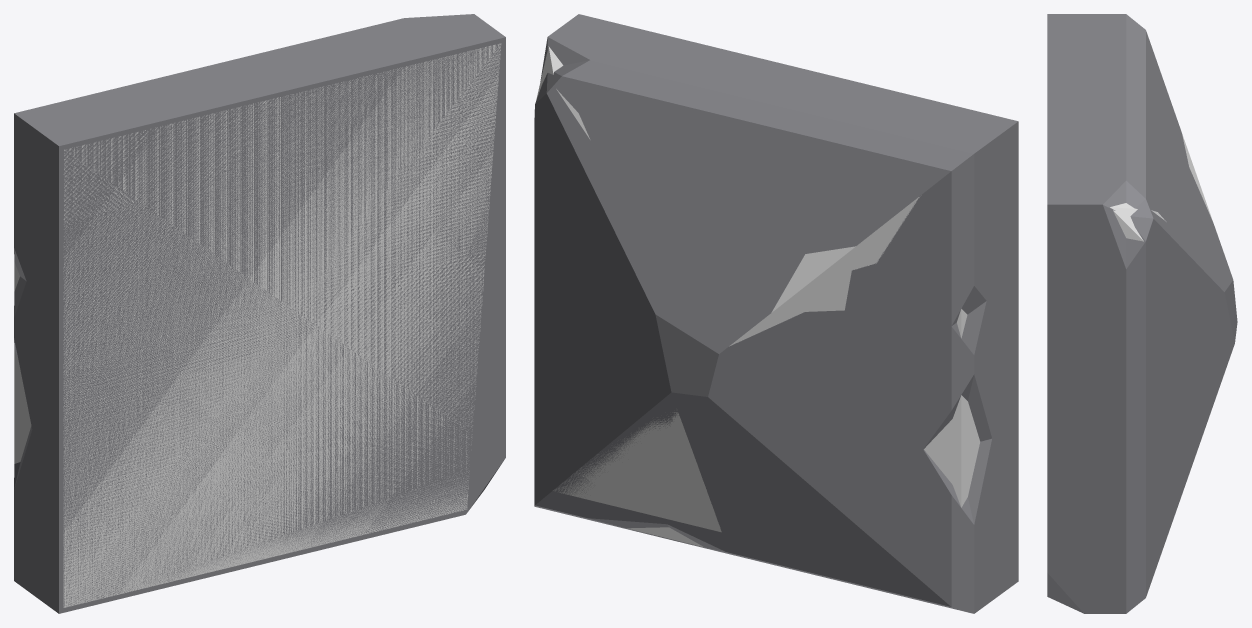
Rendered from SM_Prop_Wall_Panel_Small_02.fbx.
3 renders of one model, left to right at view 1: azimuth 30°, elevation 25°; view 2: azimuth 150°, elevation 25°; view 3: azimuth 270°, elevation 25°, orthographic. The views are drawn at different scales.
Visible parts, largest first — view 1: SM_Prop_Wall_Panel_Small_02_LOD0, SM_Prop_Wall_Panel_Small_02_ConvexHulls; view 2: SM_Prop_Wall_Panel_Small_02_LOD0, SM_Prop_Wall_Panel_Small_02_ConvexHulls; view 3: SM_Prop_Wall_Panel_Small_02_LOD0, SM_Prop_Wall_Panel_Small_02_ConvexHulls.
Boxes of the visible parts, x1,y1,x2,y2 form: SM_Prop_Wall_Panel_Small_02_LOD0: [14, 14, 505, 613]; SM_Prop_Wall_Panel_Small_02_ConvexHulls: [14, 43, 501, 607]; SM_Prop_Wall_Panel_Small_02_LOD0: [534, 14, 1018, 613]; SM_Prop_Wall_Panel_Small_02_ConvexHulls: [536, 46, 980, 546]; SM_Prop_Wall_Panel_Small_02_LOD0: [1047, 14, 1237, 613]; SM_Prop_Wall_Panel_Small_02_ConvexHulls: [1110, 133, 1212, 241].
Bounding box in the file's own units: 21.08 × 50.07 × 50.07.
Materials: 1 (1 with a texture image).
